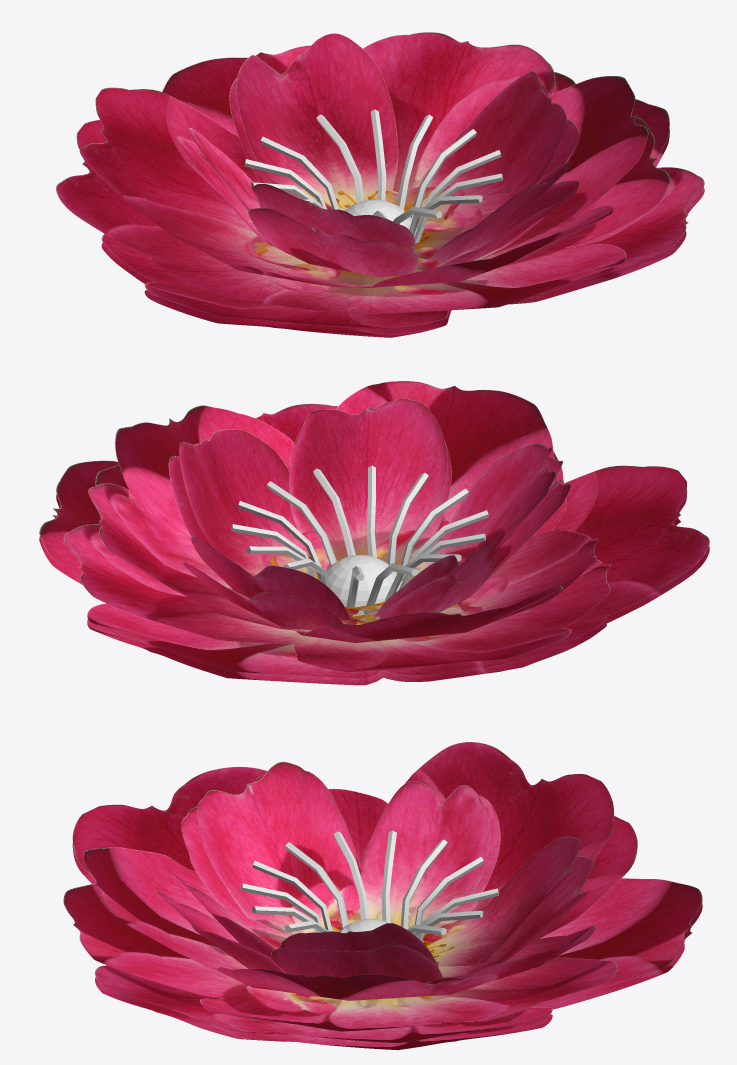
File: P_Fleur.FBX
3 views of the same model, one above another, from view 1: azimuth 30°, elevation 25°; view 2: azimuth 150°, elevation 25°; view 3: azimuth 270°, elevation 25° (orthographic).
Parts seen in each view (by area): view 1: P_Petals02, P_Petals01, P_Petals02_back, P_Petals_03, P_Petals01_back, P_Pistile, P_Petals03_back, P_Fleur; view 2: P_Petals01, P_Petals02, P_Petals_03, P_Petals02_back, P_Petals01_back, P_Pistile, P_Petals03_back, P_Fleur; view 3: P_Petals01, P_Petals02, P_Petals_03, P_Petals02_back, P_Petals01_back, P_Pistile, P_Petals03_back.
Boxes of the visible parts, x1=… form: P_Petals02: x1=79, y1=32, x2=648, y2=287; P_Petals01: x1=189, y1=33, x2=569, y2=260; P_Petals02_back: x1=56, y1=94, x2=670, y2=313; P_Petals_03: x1=101, y1=45, x2=704, y2=330; P_Petals01_back: x1=176, y1=77, x2=579, y2=277; P_Pistile: x1=244, y1=109, x2=502, y2=243; P_Petals03_back: x1=101, y1=129, x2=704, y2=337; P_Fleur: x1=345, y1=199, x2=416, y2=237; P_Petals01: x1=179, y1=398, x2=555, y2=620; P_Petals02: x1=88, y1=381, x2=598, y2=642; P_Petals_03: x1=39, y1=403, x2=709, y2=678; P_Petals02_back: x1=63, y1=451, x2=611, y2=672; P_Petals01_back: x1=168, y1=442, x2=570, y2=630; P_Pistile: x1=231, y1=465, x2=488, y2=614; P_Petals03_back: x1=39, y1=491, x2=709, y2=685; P_Fleur: x1=319, y1=554, x2=402, y2=616; P_Petals01: x1=172, y1=761, x2=580, y2=967; P_Petals02: x1=83, y1=742, x2=614, y2=1000; P_Petals_03: x1=72, y1=766, x2=702, y2=1043; P_Petals02_back: x1=63, y1=816, x2=637, y2=1031; P_Petals01_back: x1=155, y1=775, x2=594, y2=983; P_Pistile: x1=241, y1=830, x2=498, y2=941; P_Petals03_back: x1=72, y1=843, x2=702, y2=1050.
Bounding box in the file's own units: 67.07 × 17.53 × 67.06.
